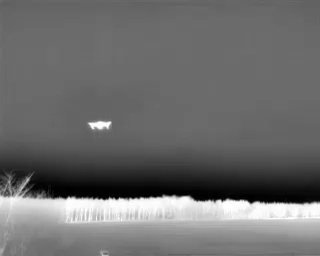DRONE: (83, 115, 117, 137)
